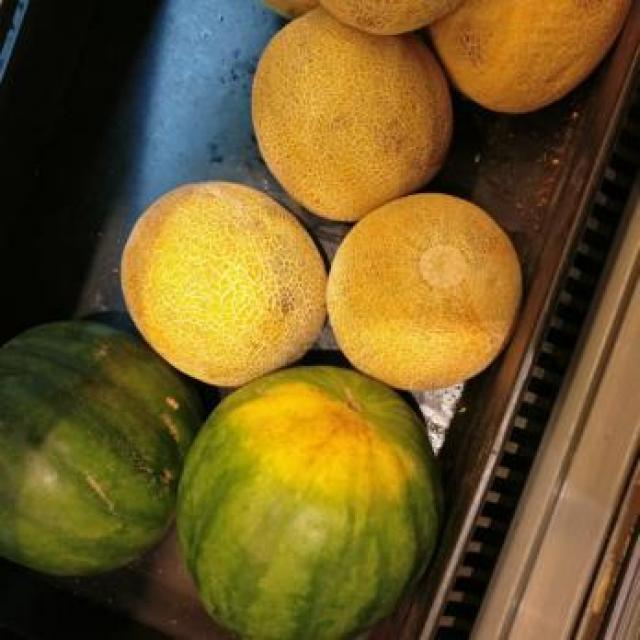Galia: (121, 182, 328, 388), (254, 7, 452, 221), (327, 193, 528, 390)
Watermelon: (188, 368, 448, 636), (0, 318, 211, 575)
